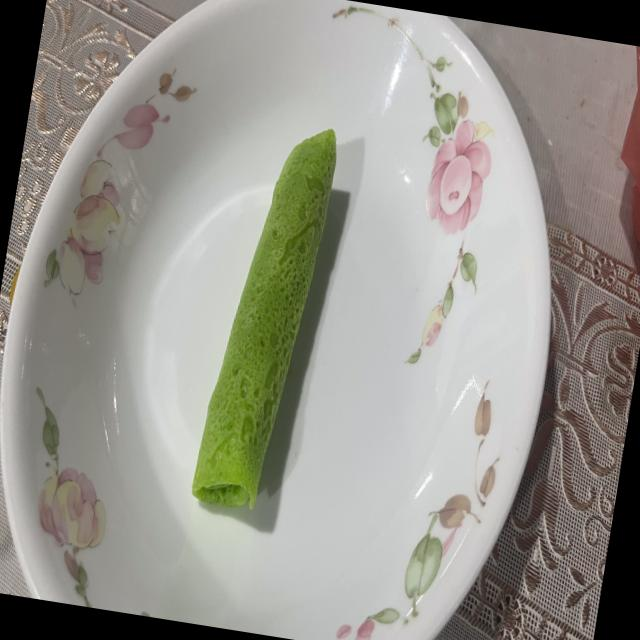Kuih-Ketayap: (192, 130, 337, 509)
